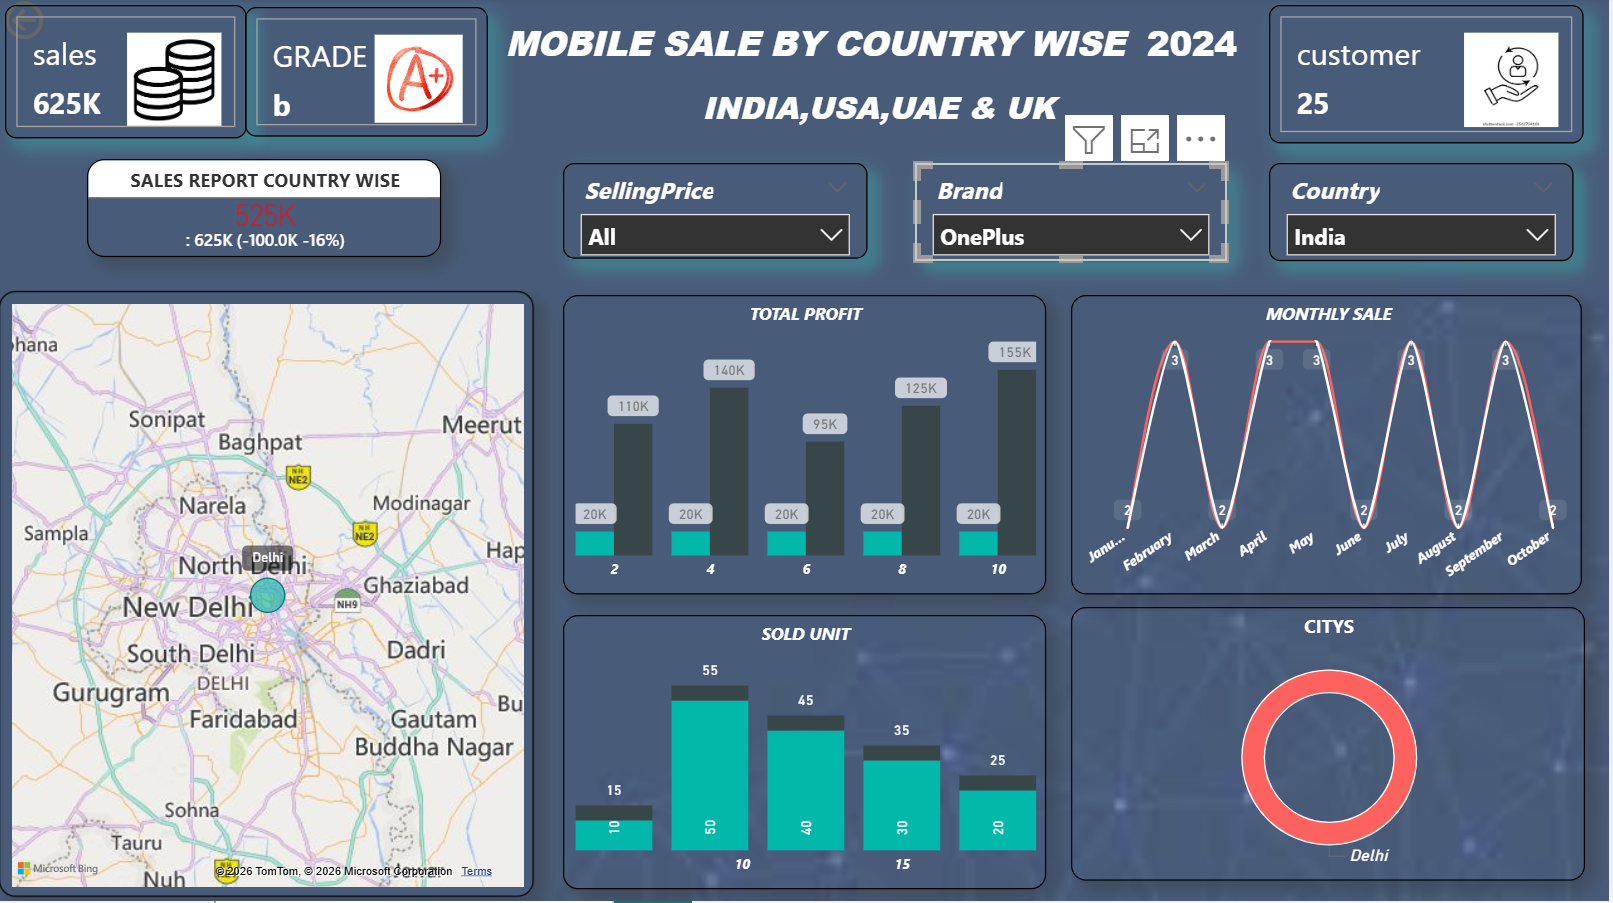

The page's visual inventory and layout, read from the dashboard file:
{"tool":"powerbi","page":{"name":"mobile sales by each country","canvas":[1280,720],"ordinal":0},"visuals":[{"type":"map","fields":{"Category":["Mobile_Sales.City"],"Size":["Sum(Mobile_Sales.SellingPrice)"]},"box":[0,235,425,481.7],"z":0},{"type":"columnChart","title":"SOLD UNIT","fields":{"Category":["Mobile_Sales.Discount"],"Y":["Sum(Mobile_Sales.UnitsSold)","CountNonNull(Mobile_Sales.OneYearWarranty)"]},"box":[448,492,384,218],"z":1000},{"type":"donutChart","title":"CITYS","fields":{"Y":["Sum(Mobile_Sales.UnitsSold)"],"Category":["Mobile_Sales.City"]},"box":[851.9,486.4,408.5,217.7],"z":2000},{"type":"lineChart","title":"MONTHLY SALE","fields":{"Category":["dates.dates.Variation.Date Hierarchy.Month","dates.dates.Variation.Date Hierarchy.Day"],"Y":["CountNonNull(Mobile_Sales.Brand)"],"Y2":["Sum(Mobile_Sales.Profit)"]},"box":[852,238,406,238],"z":3000},{"type":"kpi","title":"SALES REPORT COUNTRY WISE","fields":{"Indicator":["Sum(Mobile_Sales.CostPrice)"],"TrendLine":["Mobile_Sales.Profit"],"Goal":["Sum(Mobile_Sales.SellingPrice)"]},"box":[69.9,130.3,281.3,77.9],"z":4000},{"type":"slicer","fields":{"Values":["Mobile_Sales.SellingPrice"]},"box":[448,134,242,76],"z":5000},{"type":"slicer","fields":{"Values":["Mobile_Sales.Brand"]},"box":[728,134,248,78],"z":6000},{"type":"slicer","fields":{"Values":["Mobile_Sales.Country"]},"box":[1010,134,242,78],"z":7000},{"type":"textbox","box":[371.9,14.3,642.1,52.5],"z":8000},{"type":"lineClusteredColumnComboChart","title":"TOTAL PROFIT","fields":{"Category":["Mobile_Sales.UnitsSold","Mobile_Sales.Country"],"Y":["Sum(Mobile_Sales.Profit)","Mobile_Sales.sumof"]},"box":[448,238,384,238],"z":9000},{"type":"textbox","box":[424,66,550,44],"z":10000},{"type":"actionButton","box":[0,0,100,40],"z":11000},{"type":"cardVisual","fields":{"Data":["Mobile_Sales.countasell"]},"box":[1010,8,250,110],"z":12000},{"type":"cardVisual","fields":{"Data":["Mobile_Sales.sumof"]},"box":[4,8,192,106],"z":13000},{"type":"cardVisual","fields":{"Data":["Mobile_Sales.grade"]},"box":[196,10,193,103],"z":14000}]}

Visuals, with their boxes in screenshot pixels (x1, y1, x2, y2), scaled from the page's 1280x720 canvas onto the 1613x903 screenshot:
map - Mobile_Sales.City x Sum(Mobile_Sales.SellingPrice): locate(0, 295, 536, 899)
"SOLD UNIT" columnChart: locate(565, 617, 1048, 890)
"CITYS" donutChart: locate(1074, 610, 1588, 883)
"MONTHLY SALE" lineChart: locate(1074, 298, 1585, 597)
"SALES REPORT COUNTRY WISE" kpi: locate(88, 163, 443, 261)
slicer - Mobile_Sales.SellingPrice: locate(565, 168, 870, 263)
slicer - Mobile_Sales.Brand: locate(917, 168, 1230, 266)
slicer - Mobile_Sales.Country: locate(1273, 168, 1578, 266)
textbox: locate(469, 18, 1278, 84)
"TOTAL PROFIT" lineClusteredColumnComboChart: locate(565, 298, 1048, 597)
textbox: locate(534, 83, 1227, 138)
actionButton: locate(0, 0, 126, 50)
cardVisual - Mobile_Sales.countasell: locate(1273, 10, 1588, 148)
cardVisual - Mobile_Sales.sumof: locate(5, 10, 247, 143)
cardVisual - Mobile_Sales.grade: locate(247, 13, 490, 142)
